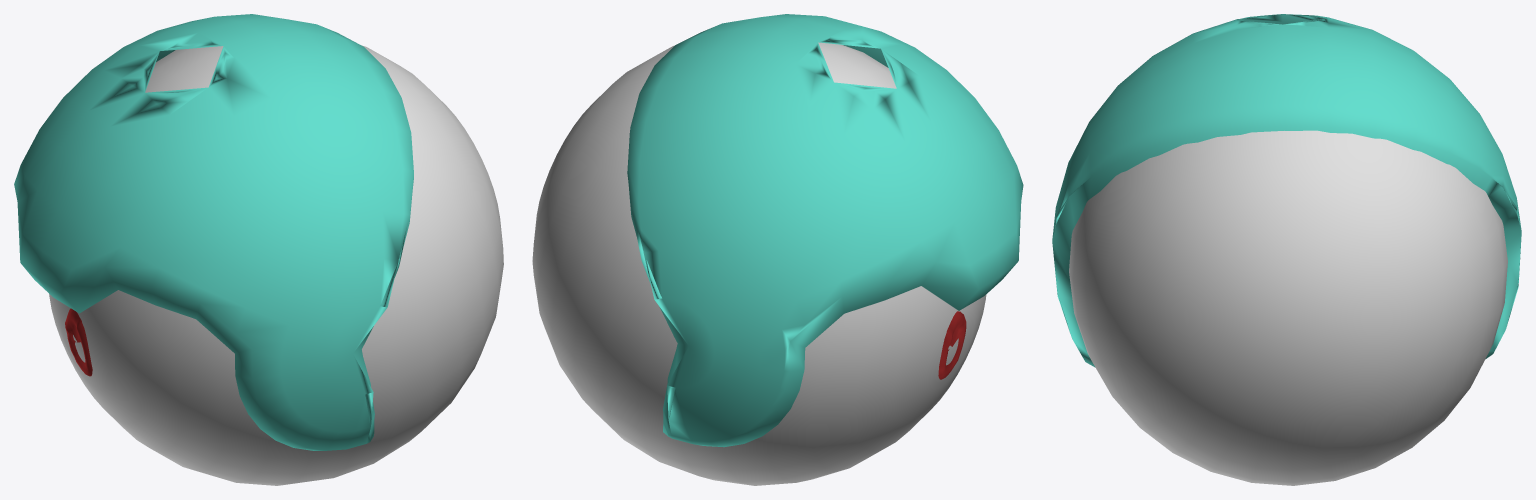
File: Eye_Am_2_Angry_2_Babeh.fbx
3 renders of one model, left to right at view 1: azimuth 30°, elevation 25°; view 2: azimuth 150°, elevation 25°; view 3: azimuth 270°, elevation 25°, orthographic. The views are drawn at different scales.
Parts seen in each view (by area): view 1: Sphere005, angry_scelara; view 2: Sphere005, angry_scelara; view 3: angry_scelara, Sphere005.
Part boxes in pixels (bbox=[...]): Sphere005: bbox=[14, 14, 413, 450]; angry_scelara: bbox=[49, 45, 503, 485]; Sphere005: bbox=[627, 14, 1023, 447]; angry_scelara: bbox=[532, 42, 986, 485]; angry_scelara: bbox=[1069, 130, 1507, 485]; Sphere005: bbox=[1052, 14, 1521, 367].
Size of the model in its own units: 6112 by 5814 by 5944.
